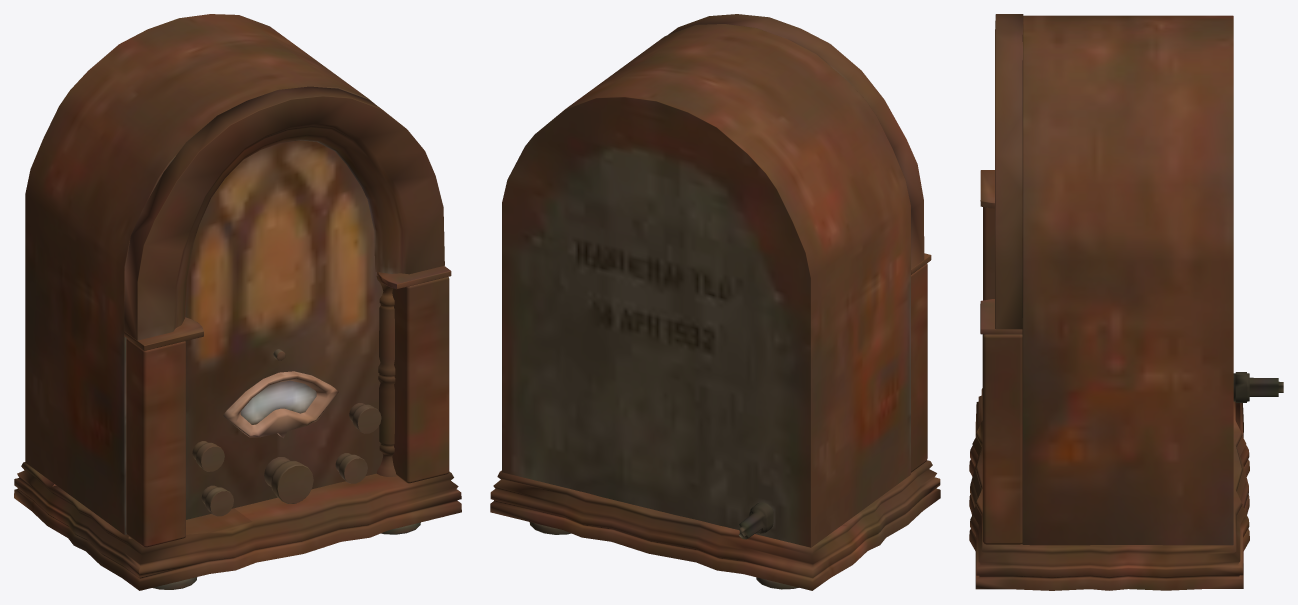
Rendered from d_radio_capilla.glb.
3 views of the same model, side by side, from view 1: azimuth 30°, elevation 25°; view 2: azimuth 150°, elevation 25°; view 3: azimuth 270°, elevation 25° (orthographic). The views are drawn at different scales.
Parts seen in each view (by area): view 1: Arch_Gres_lambert2_0; view 2: Arch_Gres_lambert2_0; view 3: Arch_Gres_lambert2_0.
Part boxes in pixels (left/top/right/bottom): Arch_Gres_lambert2_0: left=14, top=14, right=461, bottom=590; Arch_Gres_lambert2_0: left=490, top=14, right=940, bottom=590; Arch_Gres_lambert2_0: left=969, top=14, right=1283, bottom=590.
Size of the model in its own units: 0.3616 by 0.48 by 0.2828.
Materials: 1 (1 with a texture image).
